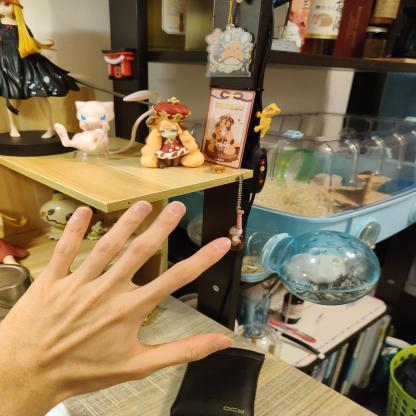bare_hand: (0, 190, 250, 415)
